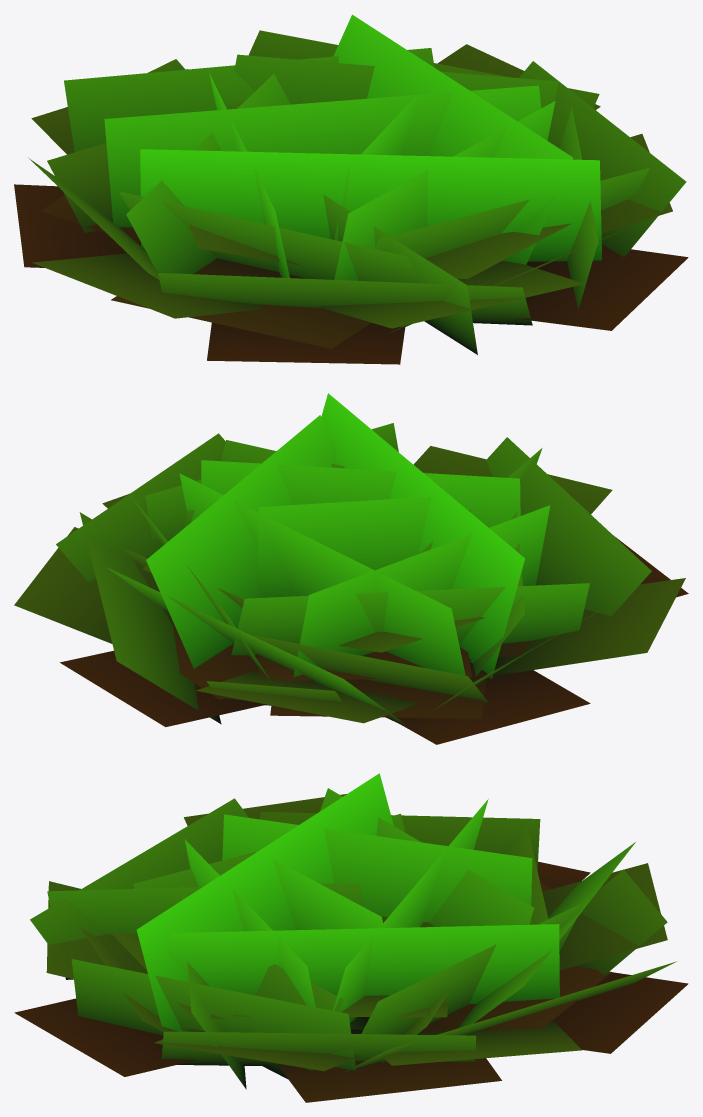
File: TGV_Grass_Patch_01B.fbx
The picture shows the model from 3 angles, top to bottom: view 1: azimuth 30°, elevation 25°; view 2: azimuth 150°, elevation 25°; view 3: azimuth 270°, elevation 25°; orthographic projection. The views are drawn at different scales.
Visible parts, largest first — view 1: TGV_Grass_Patch_01B_LOD0; view 2: TGV_Grass_Patch_01B_LOD0; view 3: TGV_Grass_Patch_01B_LOD0.
Boxes of the visible parts, bbox=[...] form: TGV_Grass_Patch_01B_LOD0: bbox=[14, 14, 688, 364]; TGV_Grass_Patch_01B_LOD0: bbox=[14, 393, 688, 744]; TGV_Grass_Patch_01B_LOD0: bbox=[14, 773, 688, 1102].
Bounding box in the file's own units: 317 × 66.31 × 322.
